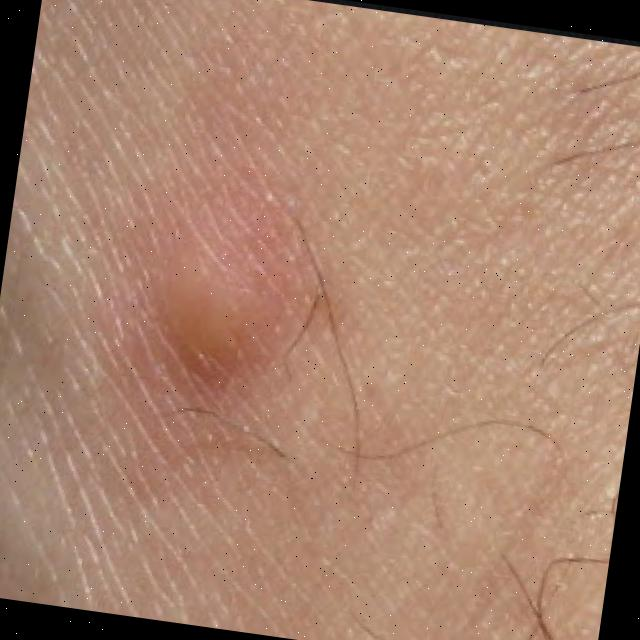sinek: (102, 185, 331, 440)
